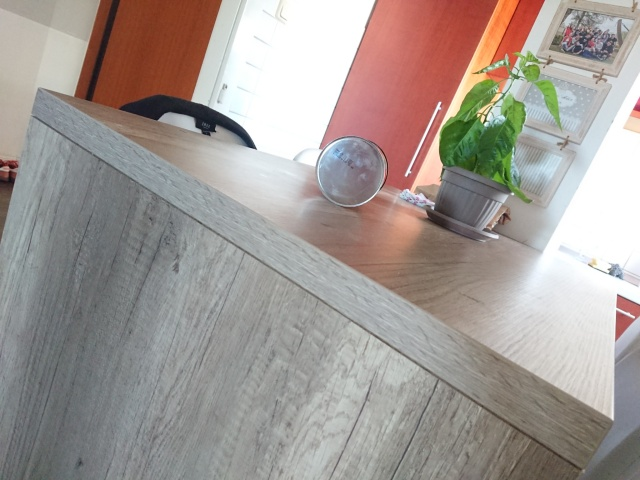Nescafe Classic 225g: (313, 134, 391, 210)
